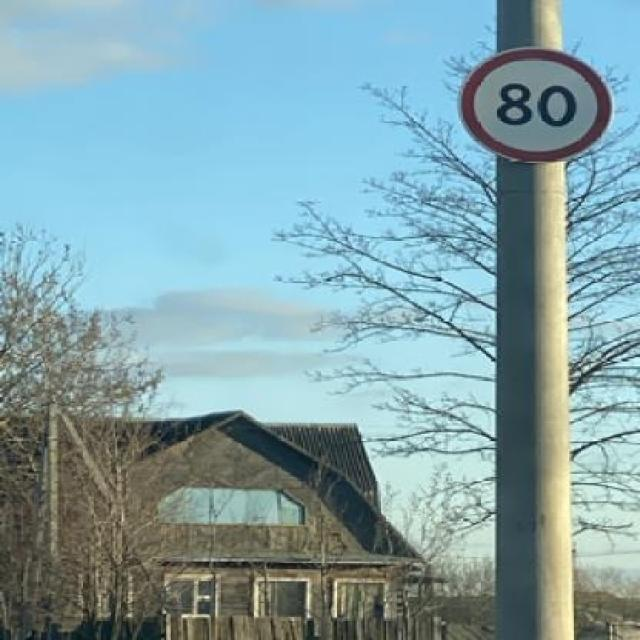forb_speed_over_80: (458, 47, 611, 164)
